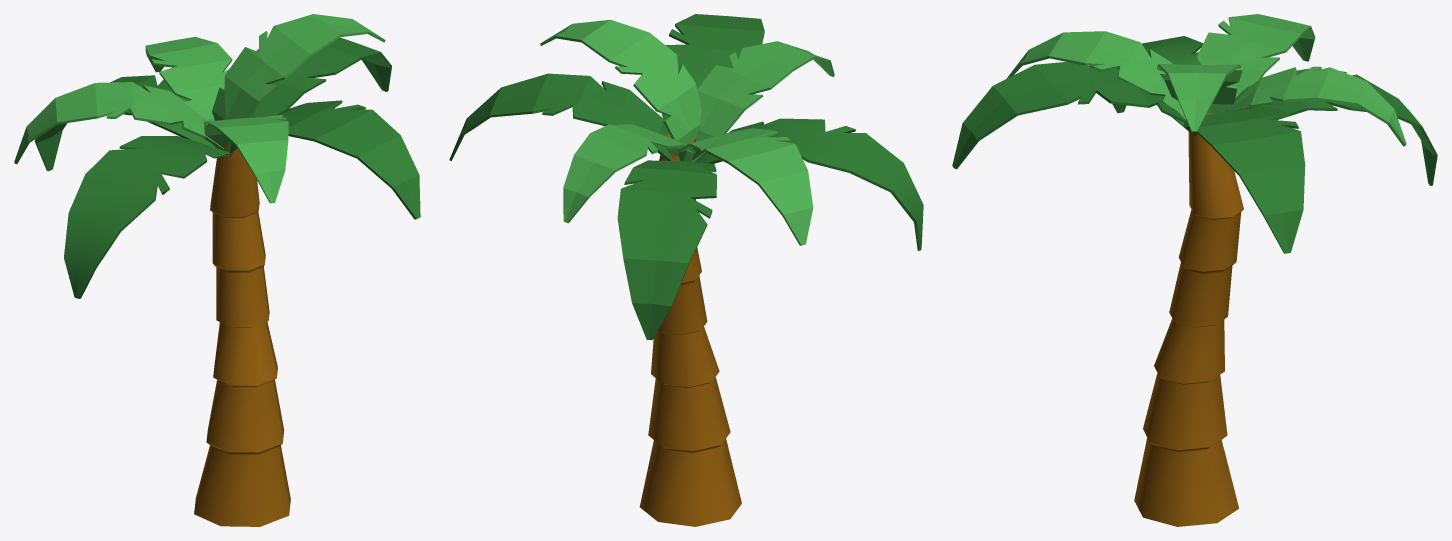
The model's file is Coconut_Tree1.fbx.
3 views of the same model, side by side, from view 1: azimuth 30°, elevation 25°; view 2: azimuth 150°, elevation 25°; view 3: azimuth 270°, elevation 25° (orthographic). The views are drawn at different scales.
Visible parts, largest first — view 1: Coconut_Tree1; view 2: Coconut_Tree1; view 3: Coconut_Tree1.
Part boxes in pixels (<box>): Coconut_Tree1: <box>14,14,420,526</box>; Coconut_Tree1: <box>449,14,923,526</box>; Coconut_Tree1: <box>952,14,1437,526</box>.
Bounding box in the file's own units: 1163 × 1285 × 1186.
